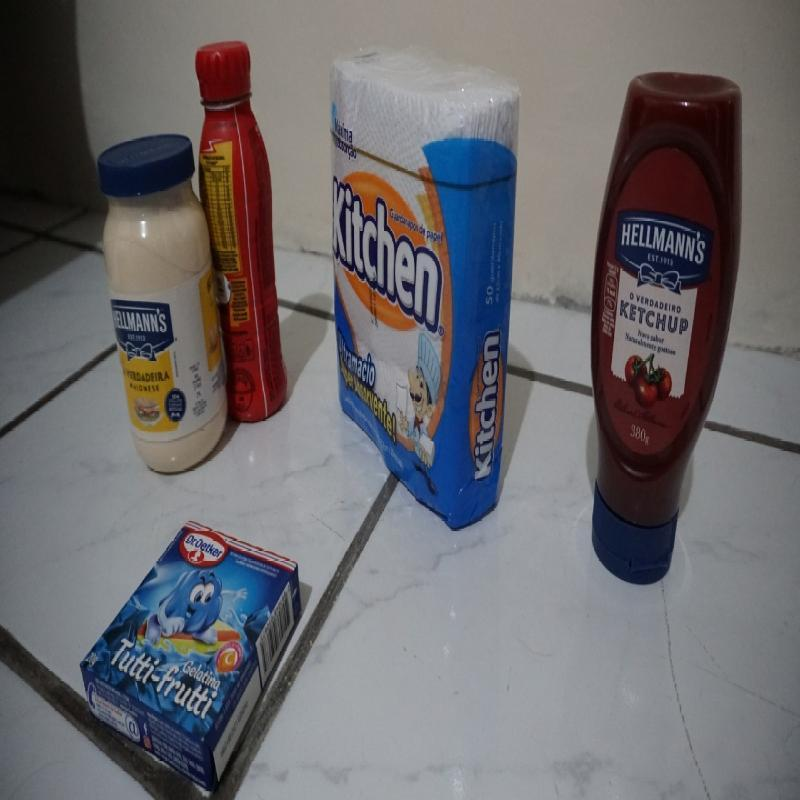Chocolate Milk: (195, 38, 289, 424)
Gelatine: (78, 514, 305, 800)
Ketchup: (589, 67, 747, 592)
Mayonnaise: (97, 130, 231, 476)
Napkin: (326, 40, 522, 532)
